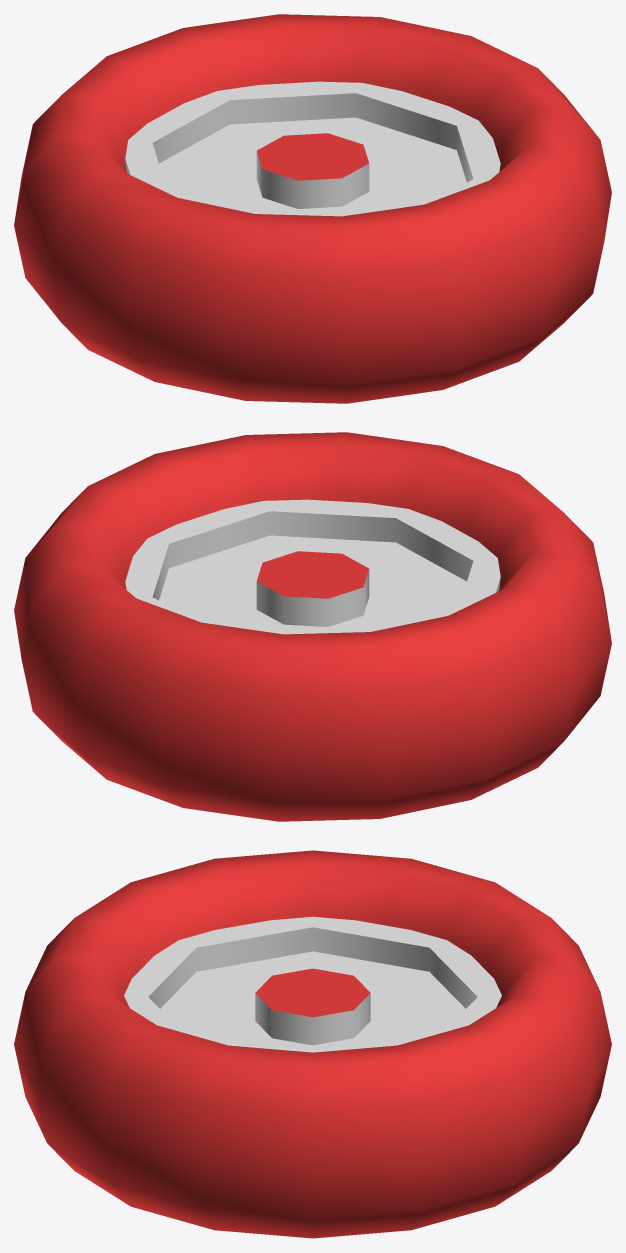
File: wheel.fbx
The picture shows the model from 3 angles, top to bottom: view 1: azimuth 30°, elevation 25°; view 2: azimuth 150°, elevation 25°; view 3: azimuth 270°, elevation 25°; orthographic projection.
Visible parts, largest first — view 1: FrontRTire; view 2: FrontRTire; view 3: FrontRTire.
Part boxes in pixels (box(x1,y1,x2,y2)): FrontRTire: box(14, 14, 611, 403); FrontRTire: box(14, 432, 611, 821); FrontRTire: box(14, 850, 611, 1238).
Size of the model in its own units: 118 by 37.2 by 118.
